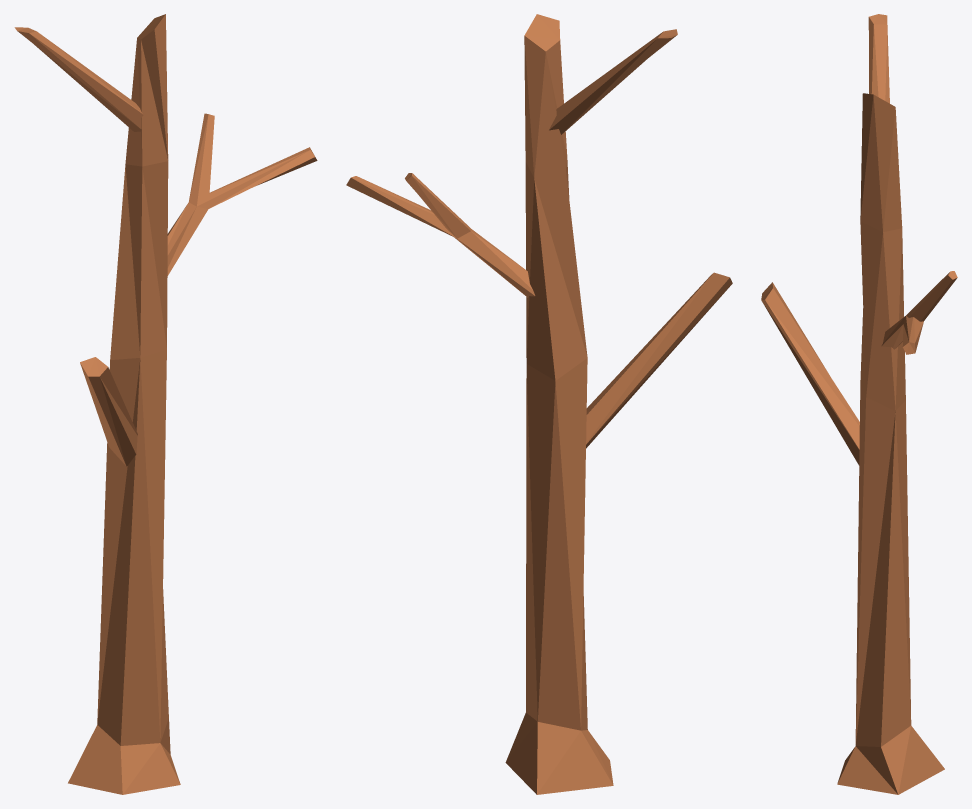
The model's file is T Oak Tree no leaf 2.fbx.
3 views of the same model, side by side, from view 1: azimuth 30°, elevation 25°; view 2: azimuth 150°, elevation 25°; view 3: azimuth 270°, elevation 25° (orthographic). The views are drawn at different scales.
Visible parts, largest first — view 1: Oak Tree No Leaf 2; view 2: Oak Tree No Leaf 2; view 3: Oak Tree No Leaf 2.
Boxes of the visible parts, box(x1,y1,x2,y2) form: Oak Tree No Leaf 2: box(14, 14, 317, 794); Oak Tree No Leaf 2: box(346, 14, 732, 794); Oak Tree No Leaf 2: box(761, 14, 957, 794).
Size of the model in its own units: 206 by 480 by 121.
